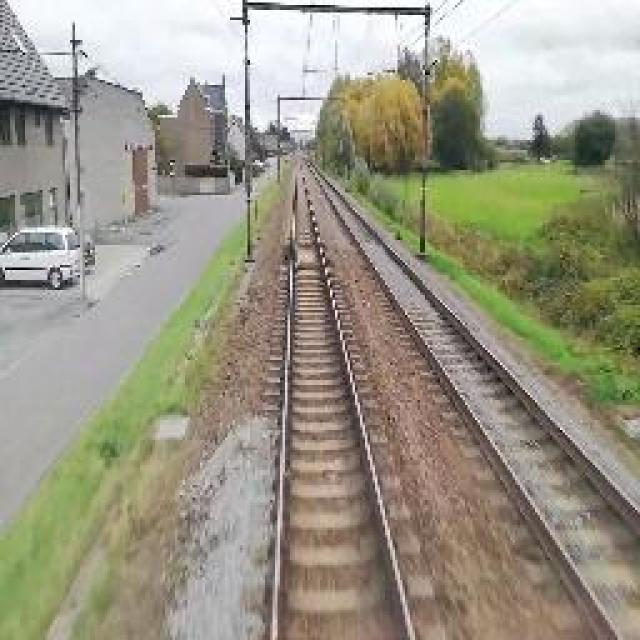rail: (253, 151, 453, 640)
